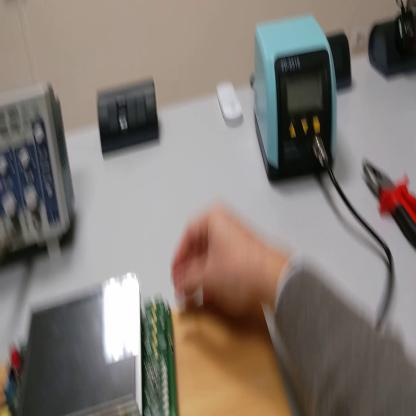hand: (170, 206, 270, 318)
low voltage board: (2, 271, 182, 415)
oscilloscope: (1, 85, 77, 263)
pliers: (365, 163, 415, 251)
socket: (370, 14, 415, 81), (327, 34, 353, 91)
welder station: (254, 17, 337, 188)
working area: (4, 300, 291, 414)
